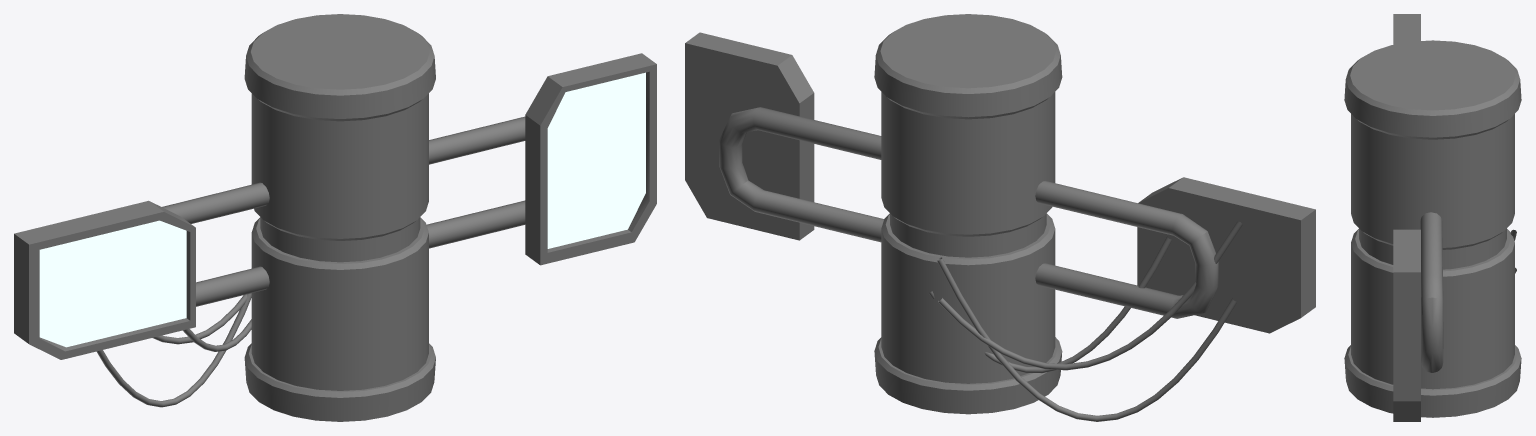
Rendered from Ekrany_02.fbx.
3 renders of one model, left to right at view 1: azimuth 30°, elevation 25°; view 2: azimuth 150°, elevation 25°; view 3: azimuth 270°, elevation 25°, orthographic. The views are drawn at different scales.
Parts seen in each view (by area): view 1: Cylinder; view 2: Cylinder; view 3: Cylinder.
Boxes of the visible parts, bbox=[...] form: Cylinder: bbox=[14, 14, 656, 421]; Cylinder: bbox=[685, 14, 1315, 421]; Cylinder: bbox=[1344, 14, 1521, 421].
Bounding box in the file's own units: 4.09 × 2.06 × 1.08.
